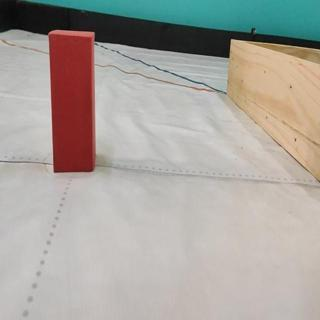redbox: (48, 29, 96, 172)
